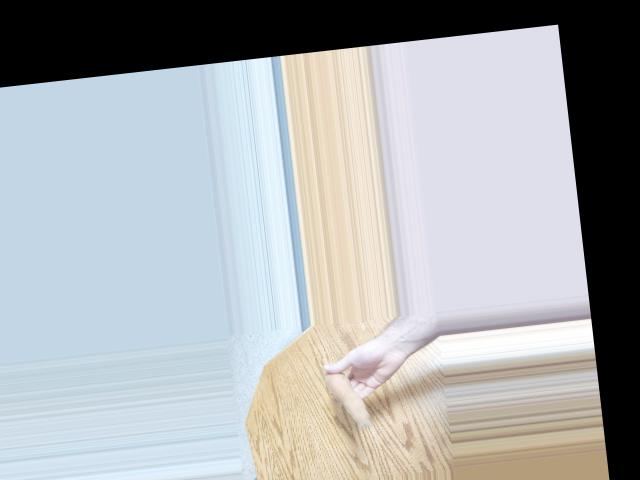sweet_potato: (320, 356, 378, 435)
